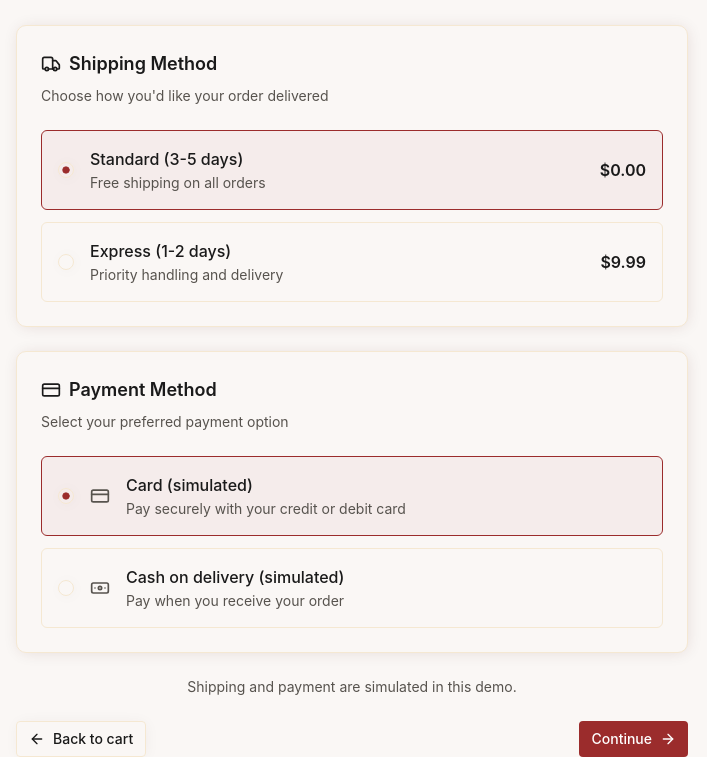
Test case: CheckoutForm › save_to_profile checkbox › renders the save-to-profile checkbox for authenticated users
(page scrolled)
What coordinates should you click on to do the following:
click the button with test id "checkout-continue"
I would click on:
 (634, 739)
Its box is [580,721,688,756].
(page scrolled)
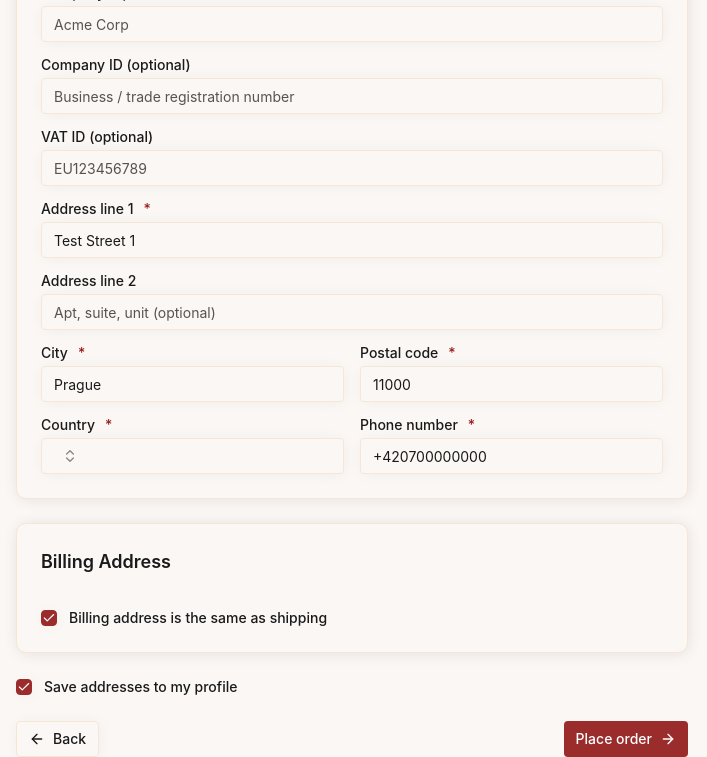
Now the checkbox named "save addresses to my profile" next to "Save addresses to my profile" is shown, box [16,679,32,695]
